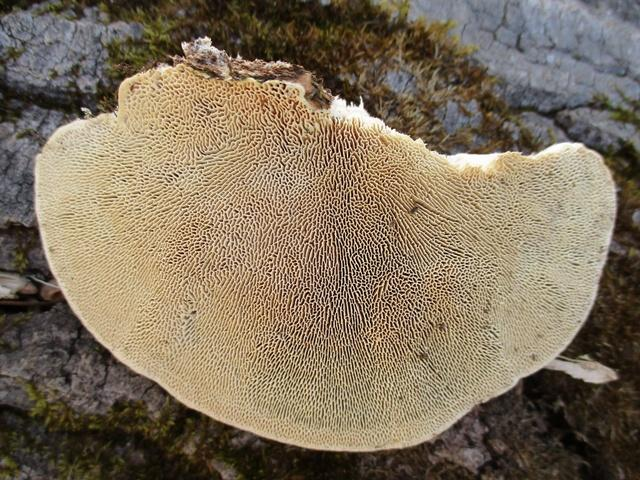Non-edible Mushroom: (32, 35, 619, 454)
